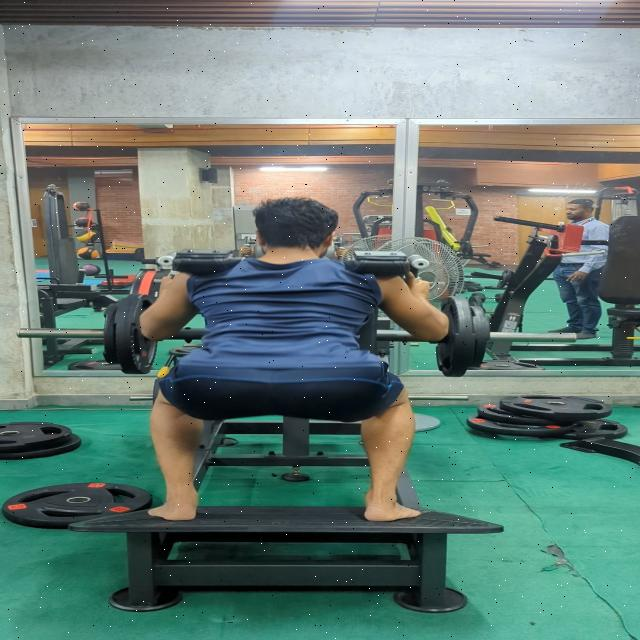Normal_SquatsWithBarbell: (129, 178, 470, 532)
